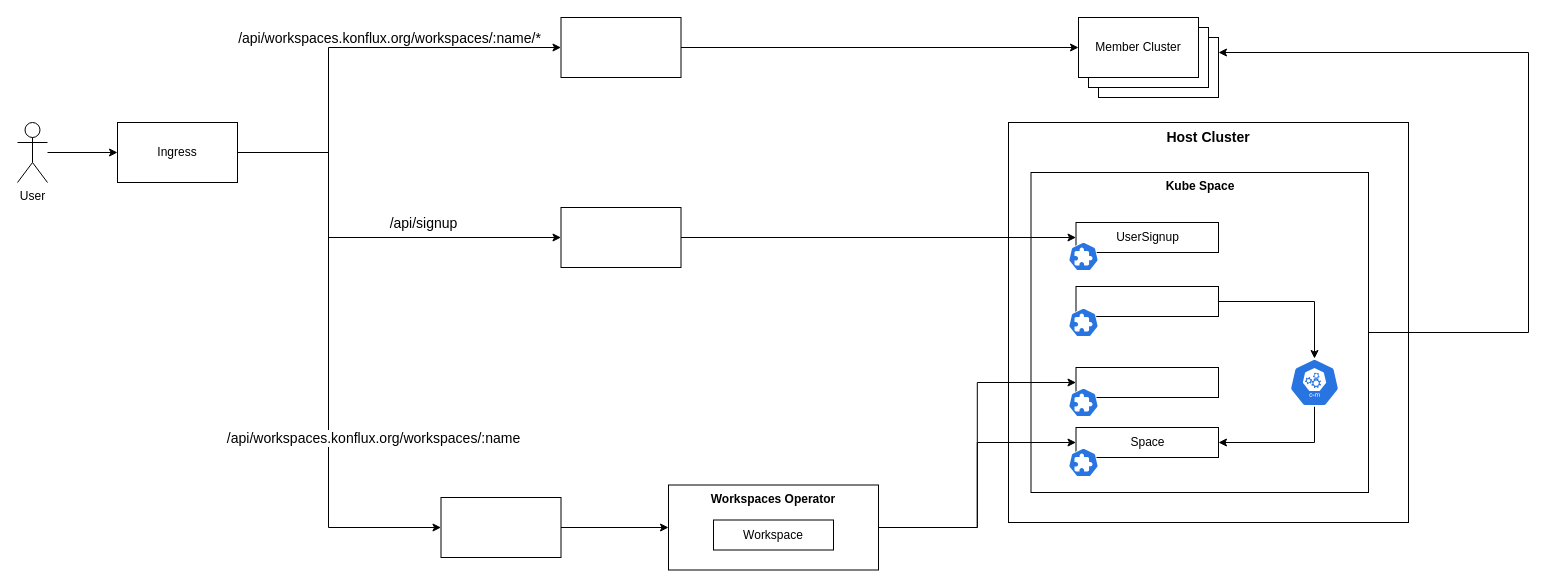
Some shapes in this 1554 by 588 pixel diagram are drawn without their labels. The shapes that lost their labels are listed below. From the top down, each one's centre as x and y in pixels, then its label:
At (620,47): "Proxy".
At (620,237): "Registration Service".
At (1146,301): "MasterUserRecord".
At (1146,382): "SpaceBinding".
At (500,527): "Workspaces REST API".
